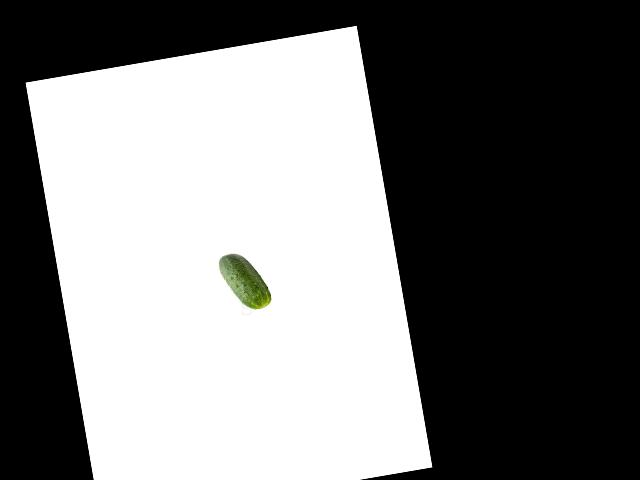cucumber: (217, 248, 272, 314)
